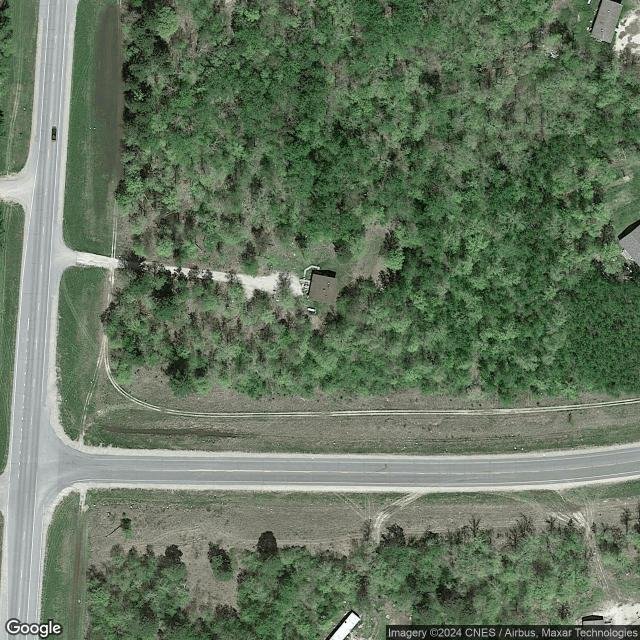Propane: (305, 306, 317, 314), (587, 0, 592, 5)
